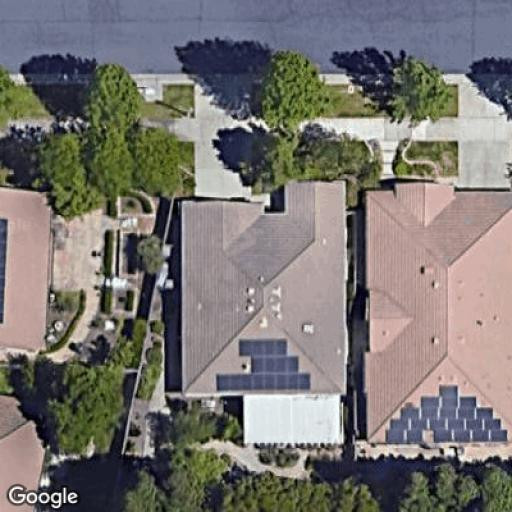solar-panel: (386, 384, 510, 445), (216, 336, 312, 391), (0, 214, 12, 326)
